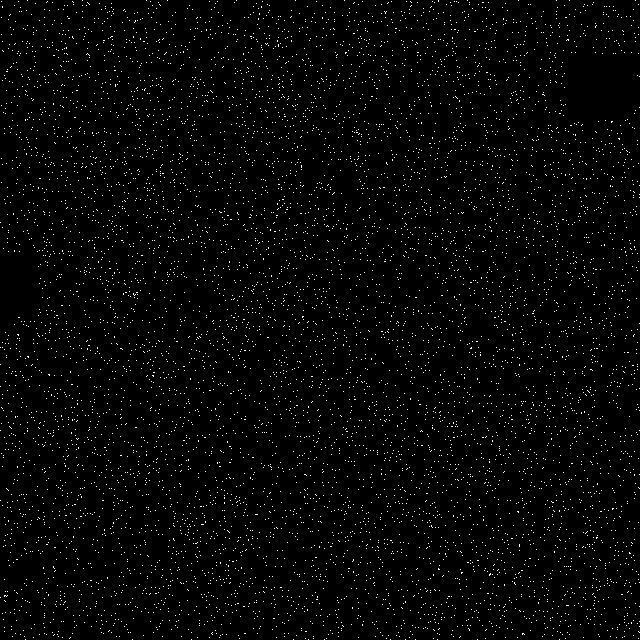egg: (192, 354, 328, 448)
